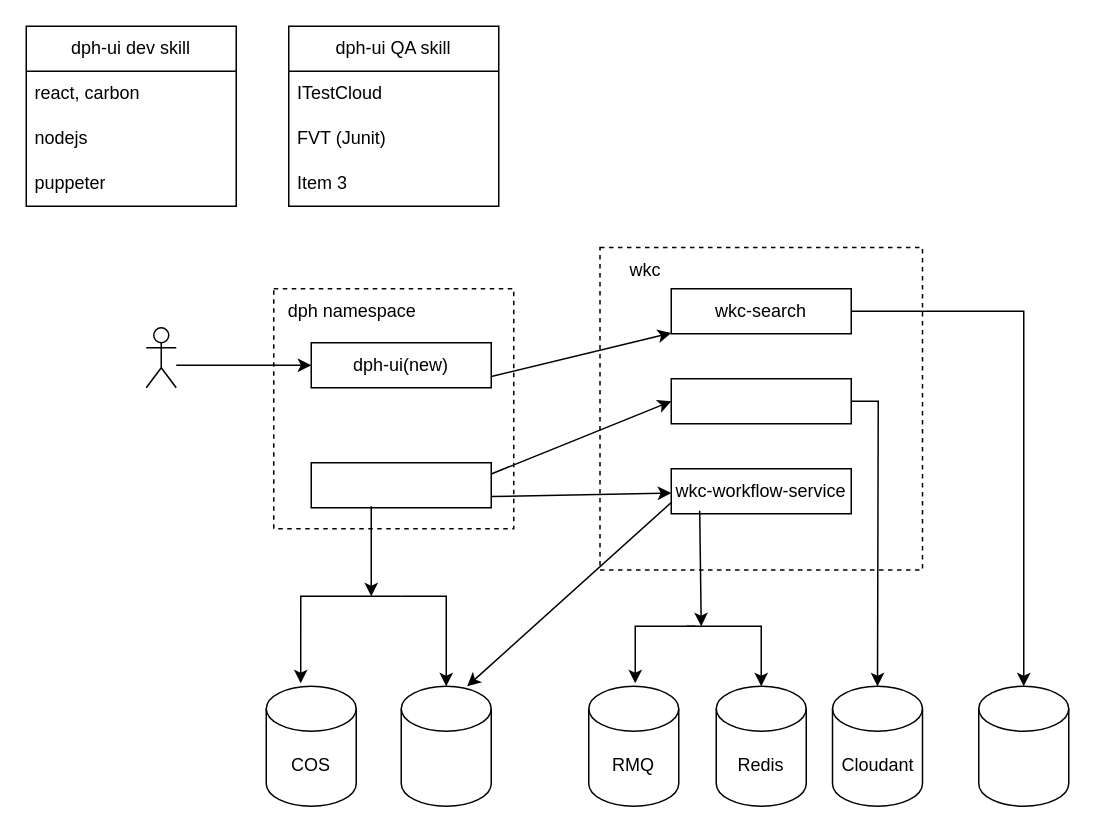
Some shapes in this 1095 by 833 pixel diagram are drawn without their labels. The shapes that lost their labels are listed below. From the top down, each one's centre as x and y in pixels, then its label:
At point (160, 357): "Actor".
At point (760, 400): "catalog-api".
At point (400, 484): "dph-api(new)".
At point (445, 745): "DB2".
At point (1023, 745): "Elastic".
